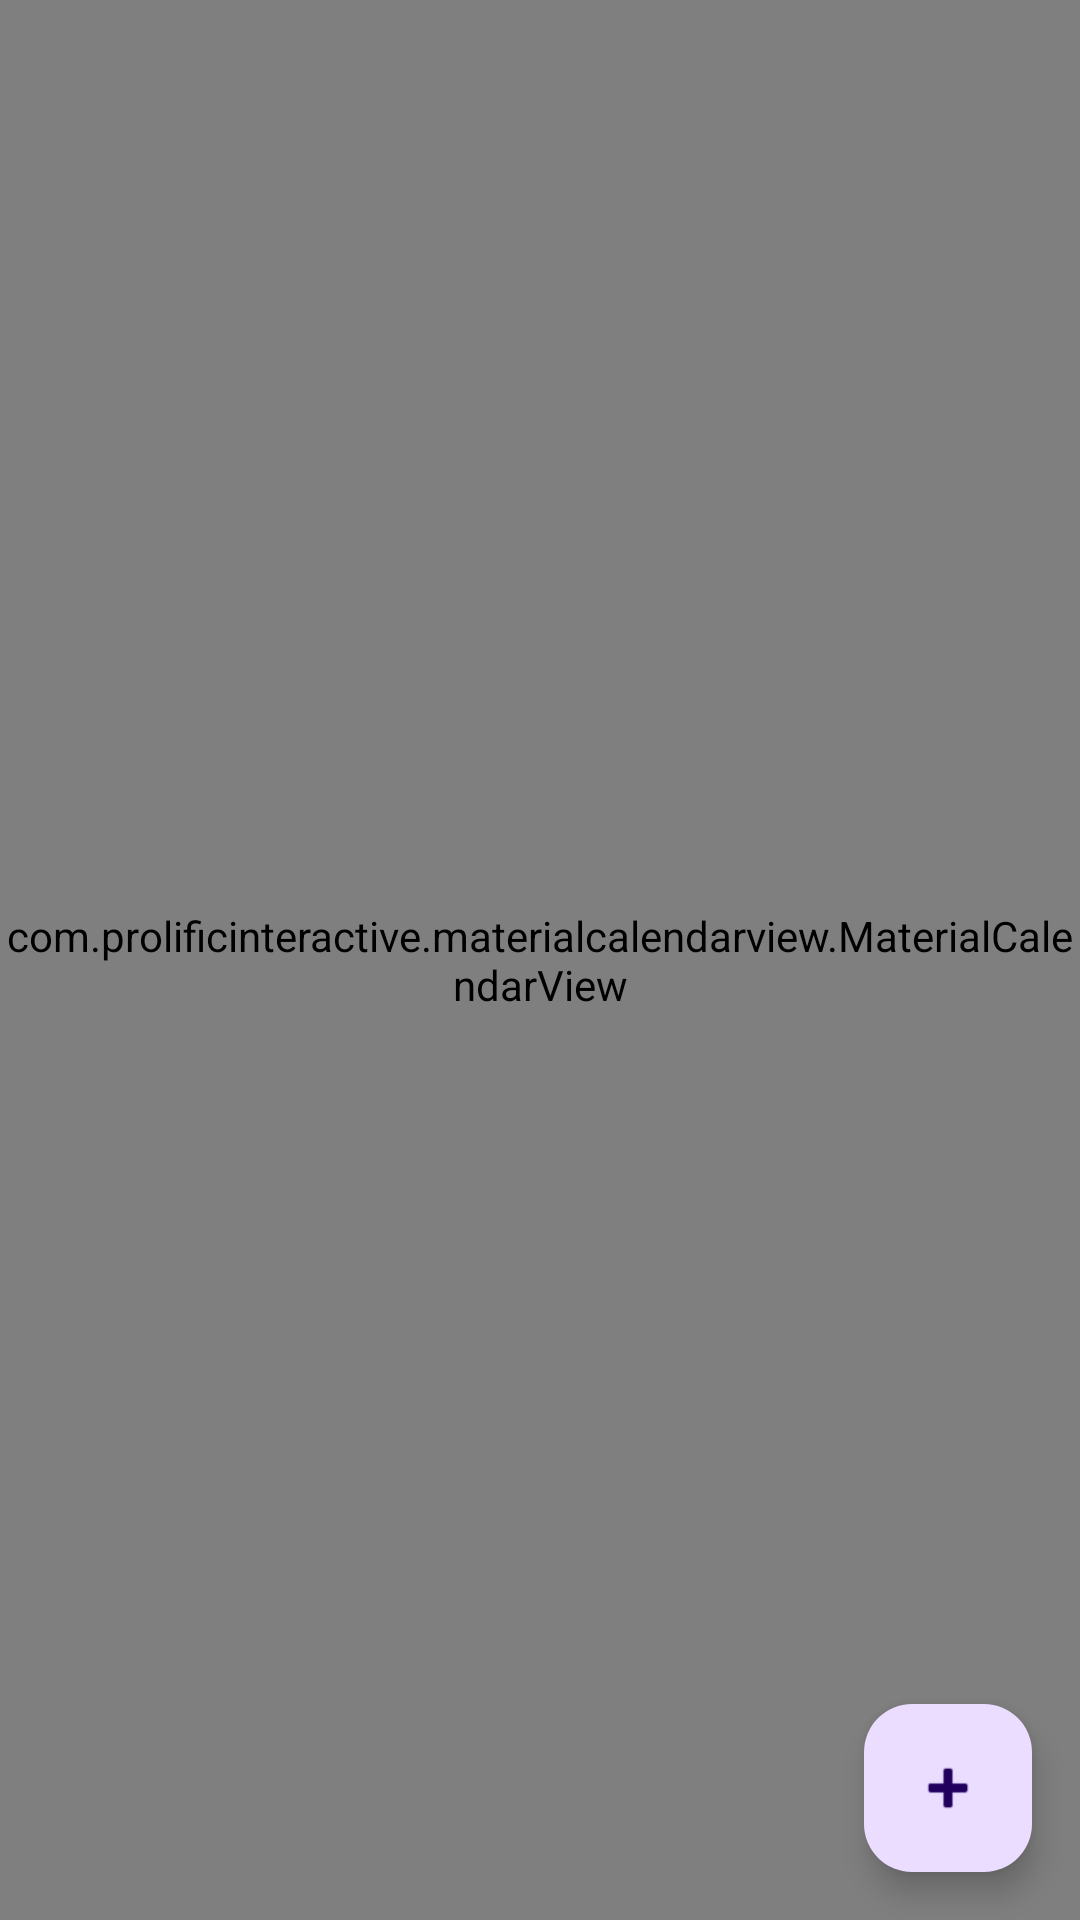

Icon bounding boxes for this 1080 × 1920 phone screenshot, format (x1, y1, x2, y2):
Add Reminder: (864, 1704, 1032, 1872)
